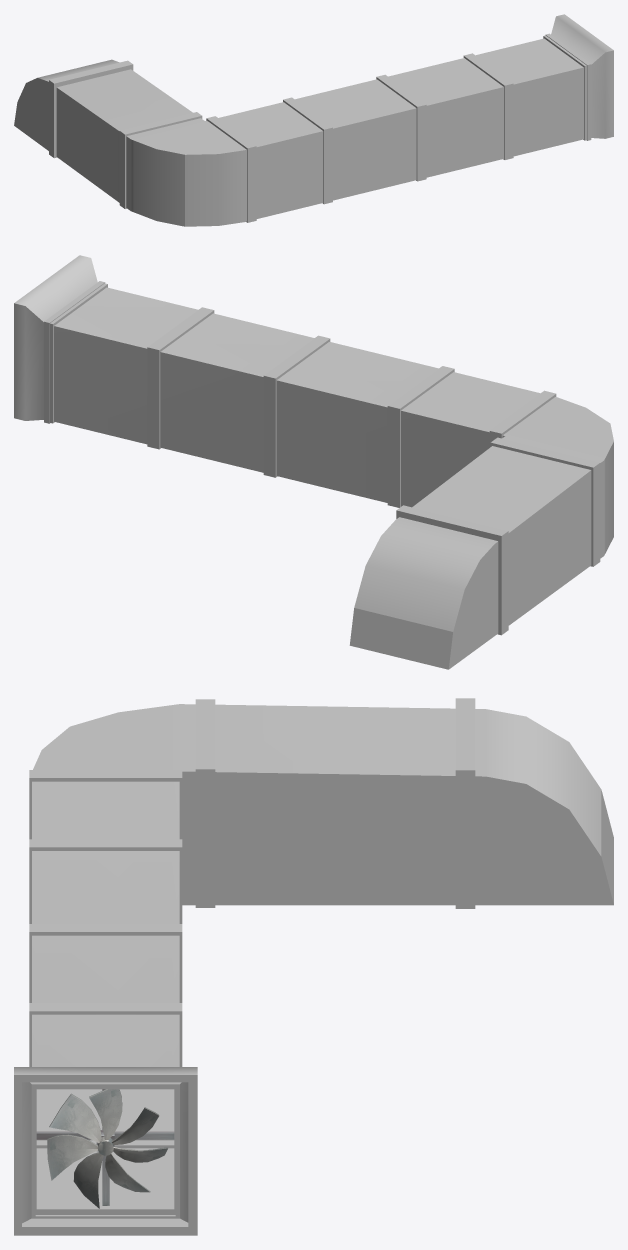
File: Big_air_vent.fbx
3 views of the same model, one above another, from view 1: azimuth 30°, elevation 25°; view 2: azimuth 150°, elevation 25°; view 3: azimuth 270°, elevation 25° (orthographic). The views are drawn at different scales.
Parts seen in each view (by area): view 1: vent_big; view 2: vent_big; view 3: vent_big, fan_big, fan_attach_big.
Boxes of the visible parts, box(x1,y1,x2,y2) form: vent_big: box(14, 14, 613, 226); vent_big: box(14, 255, 613, 669); vent_big: box(14, 698, 613, 1235); fan_big: box(47, 1089, 168, 1208); fan_attach_big: box(36, 1089, 174, 1205).
Size of the model in its own units: 7.37 by 1.4 by 4.67.
